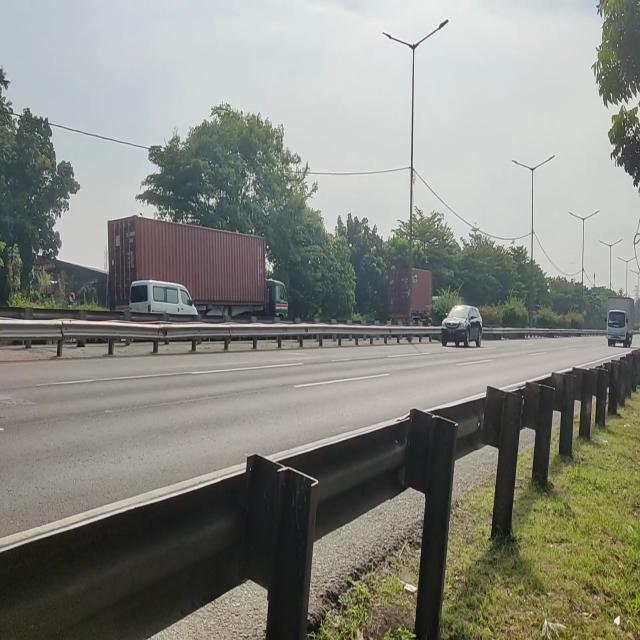Golongan I: (437, 296, 484, 352)
